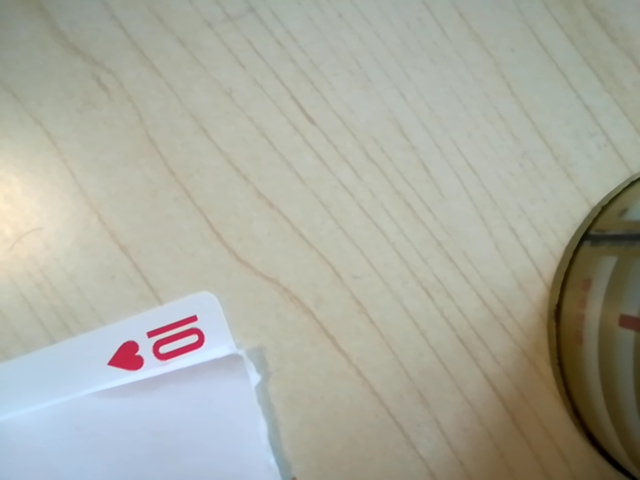hx 10: (99, 312, 219, 385)
